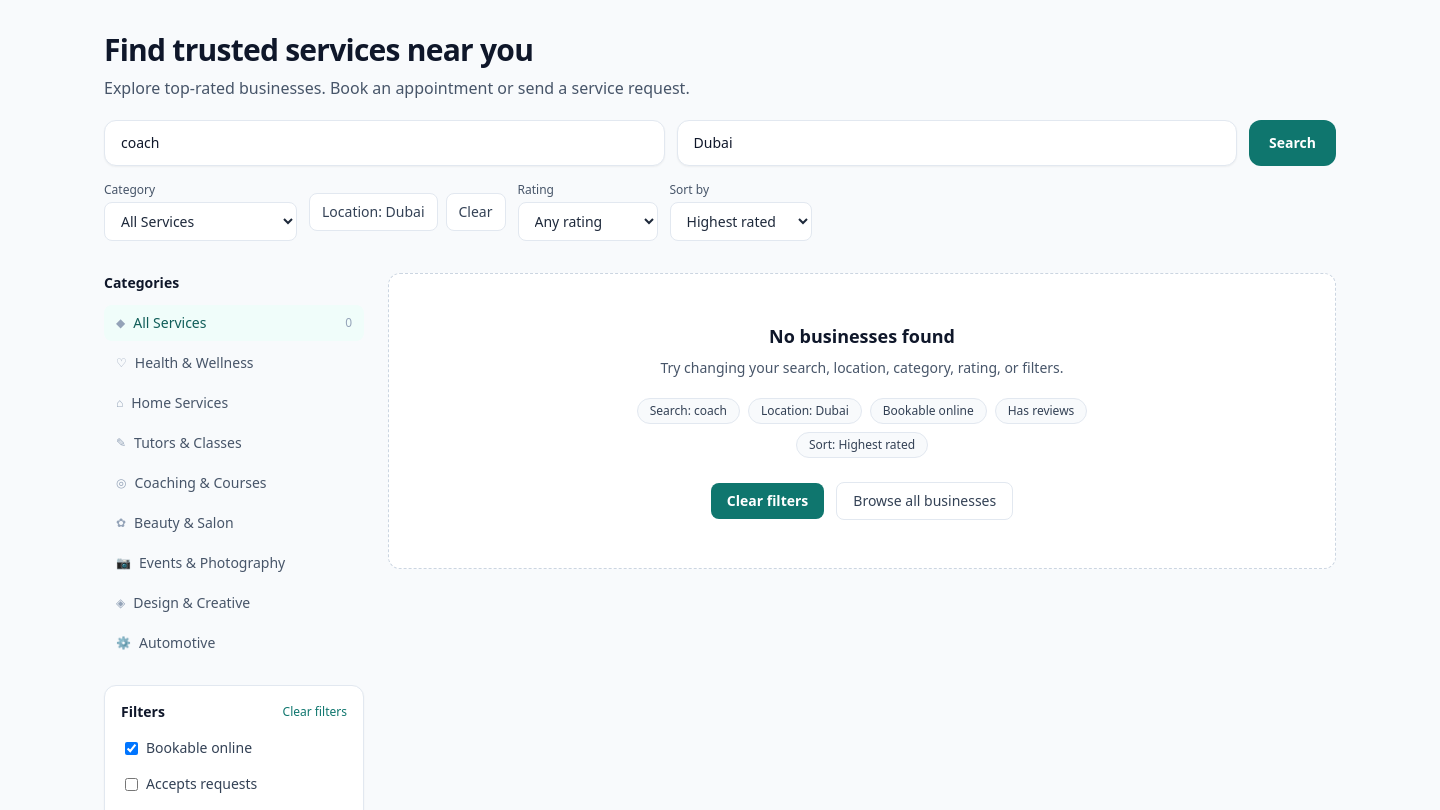
it: public business directory › clears all marketplace filters from URL and local state
Click the button with test id "marketplace-clear-filters" at (768, 501), box 711,483 -> 824,519
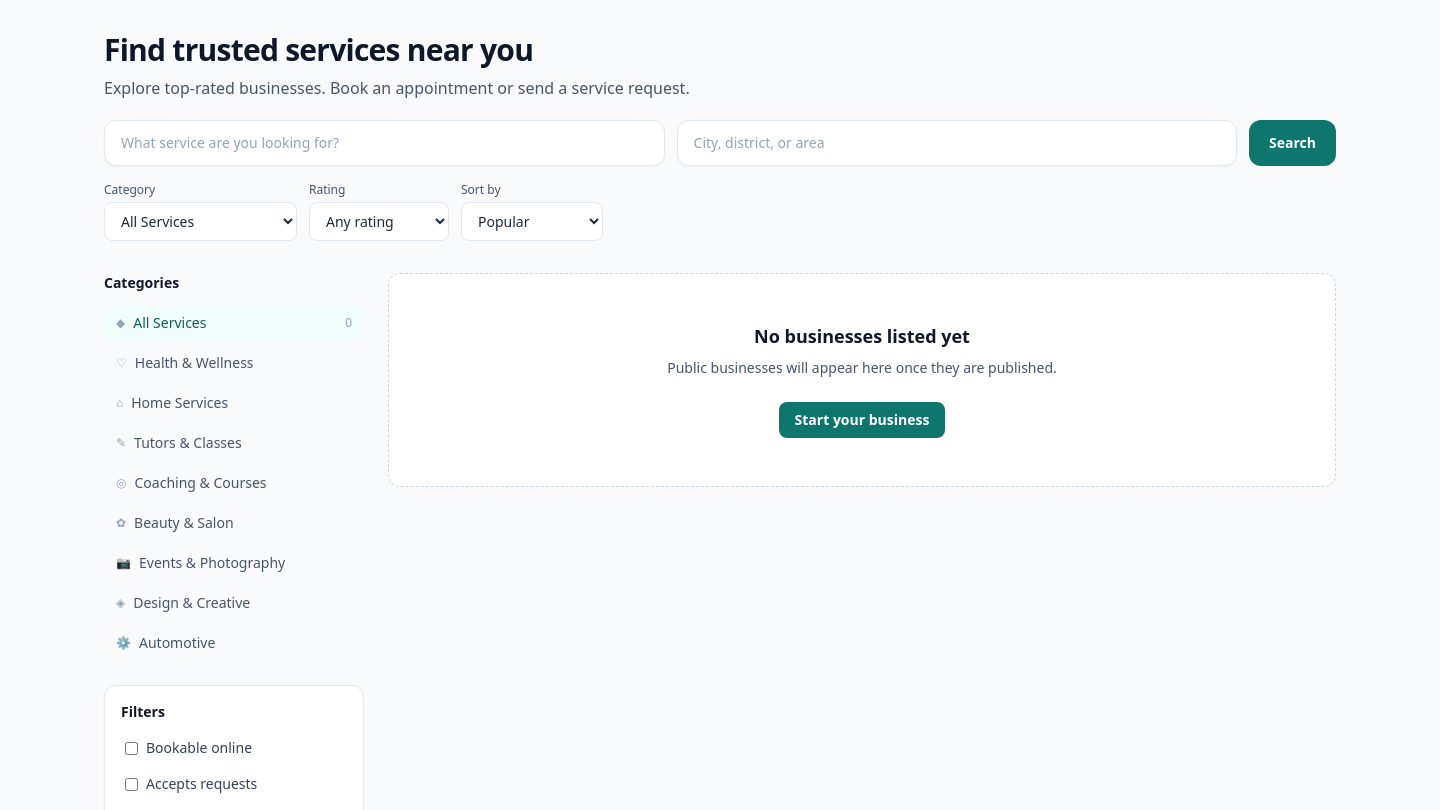
expect the search field with test id "marketplace-search-input" is empty: met, box 104,120 -> 664,166
expect the search field with test id "marketplace-location-input" is empty: met, box 676,120 -> 1237,166
expect the dropdown with test id "marketplace-sort-filter" shows "Popular": met, box 461,202 -> 603,241
